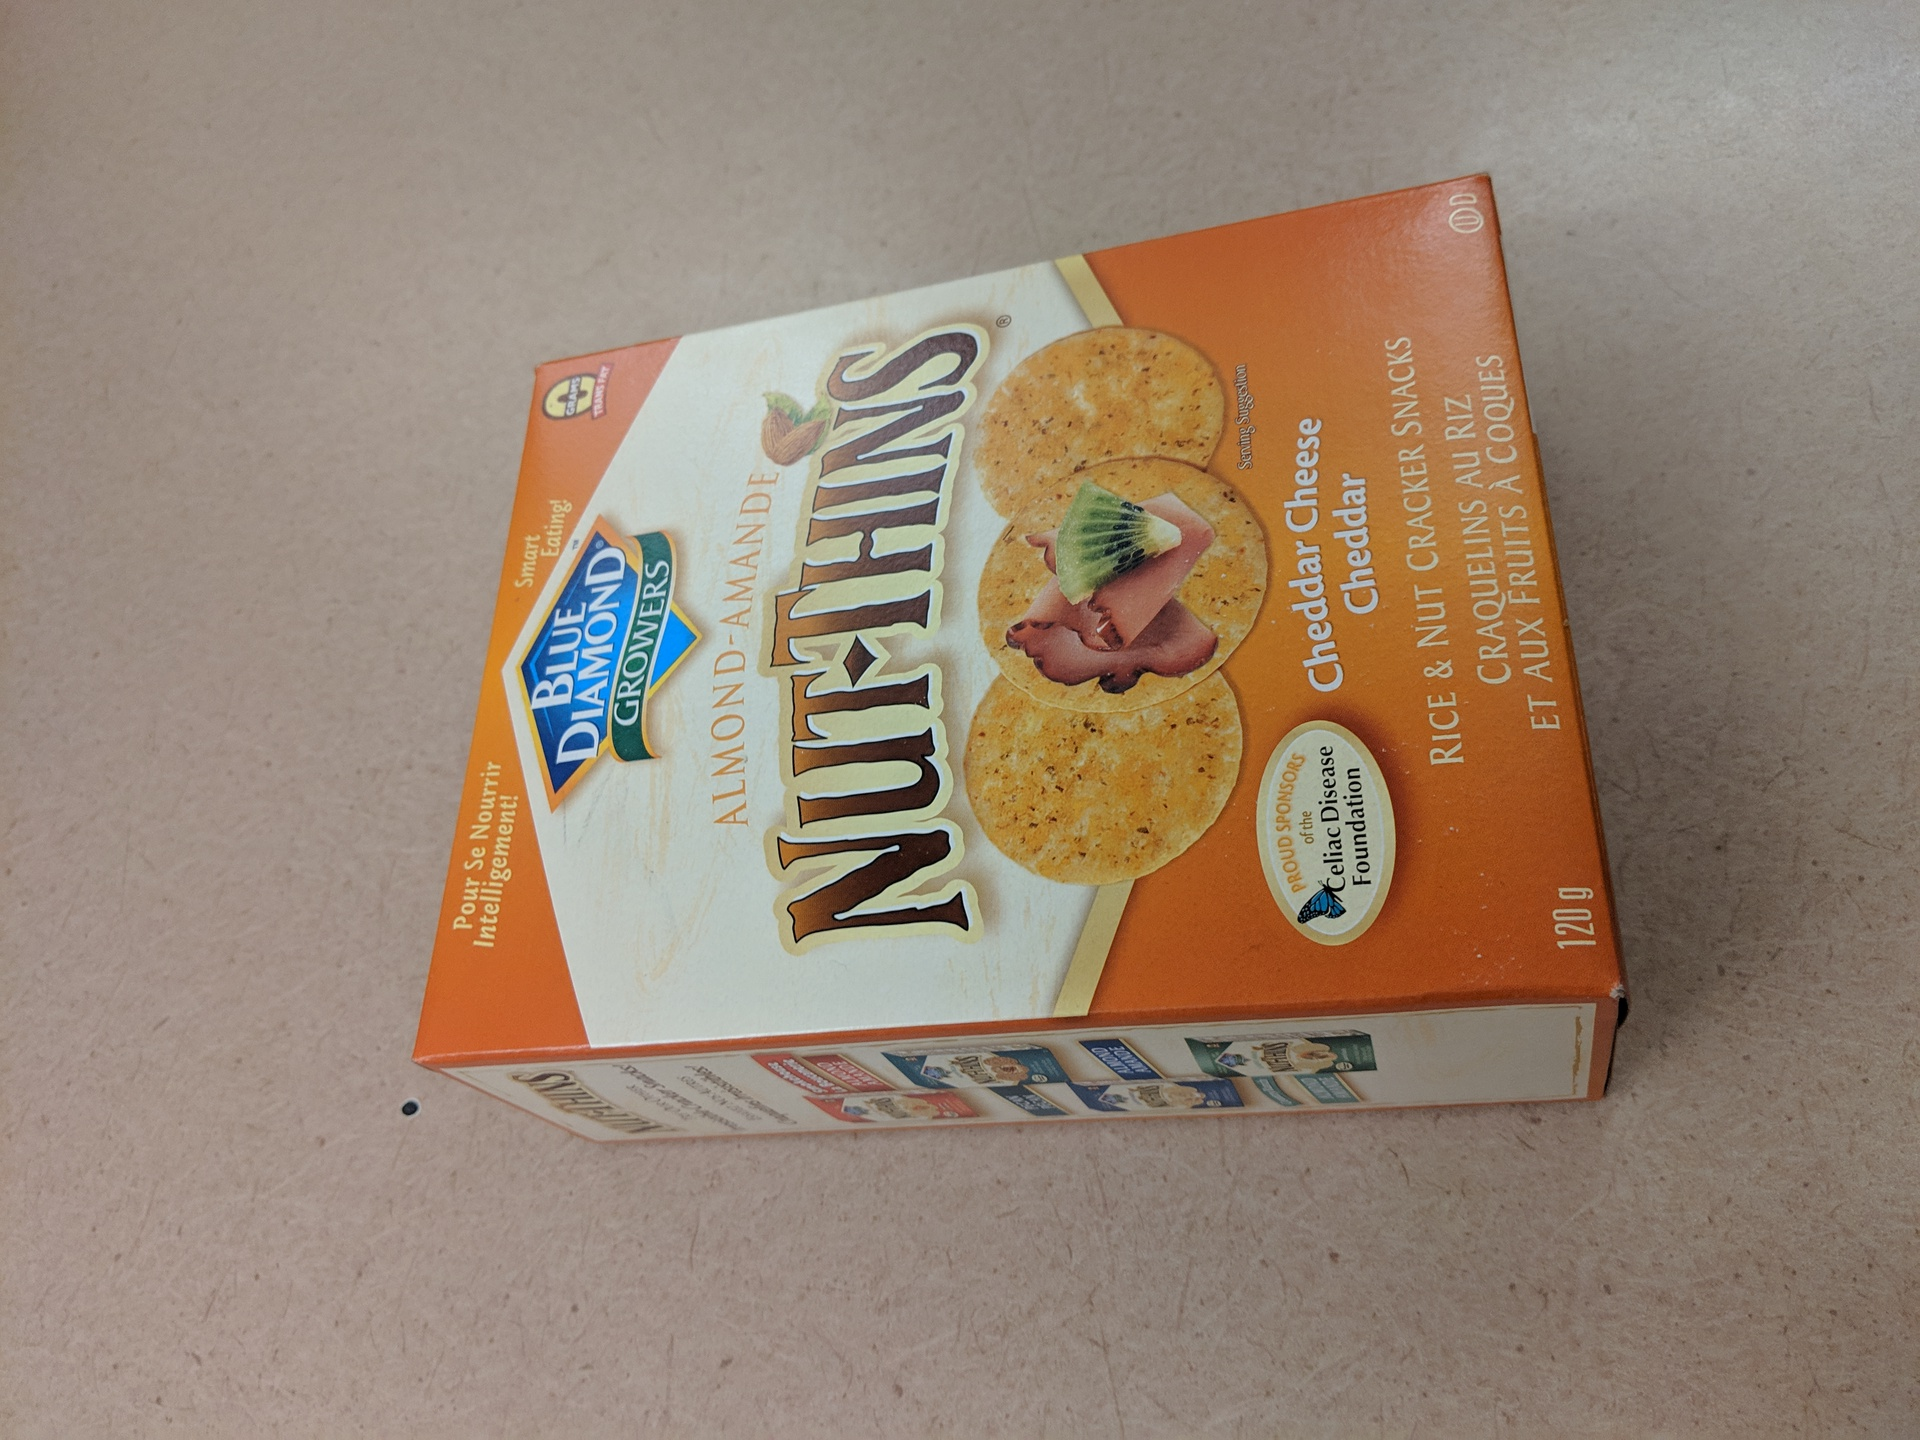blue_diamond_nut_thins_almond_cheddar: (404, 162, 1674, 1153)
